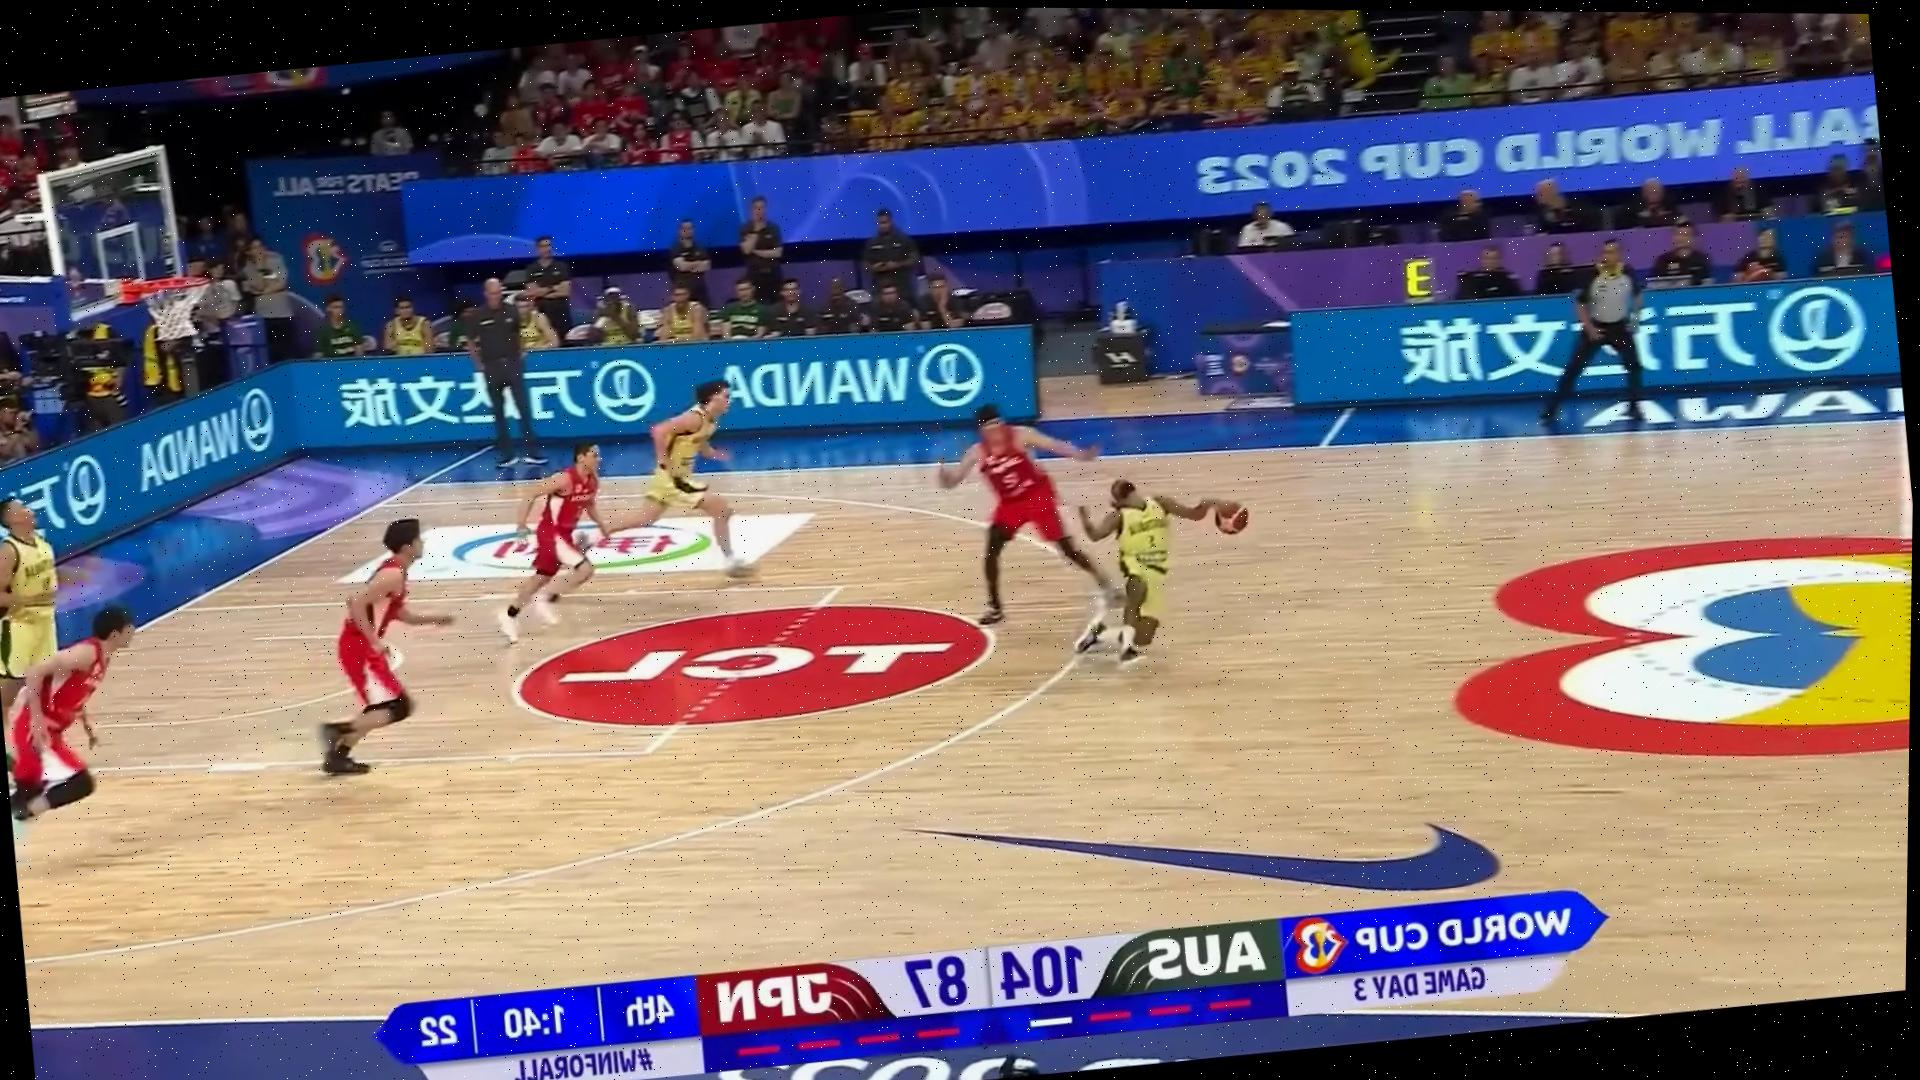foul: (920, 356, 1286, 666)
